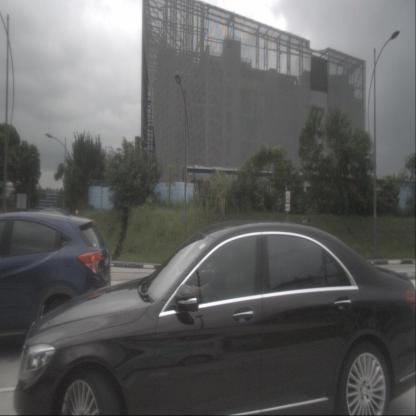vehicle-car: (12, 221, 416, 415), (0, 210, 112, 351)
